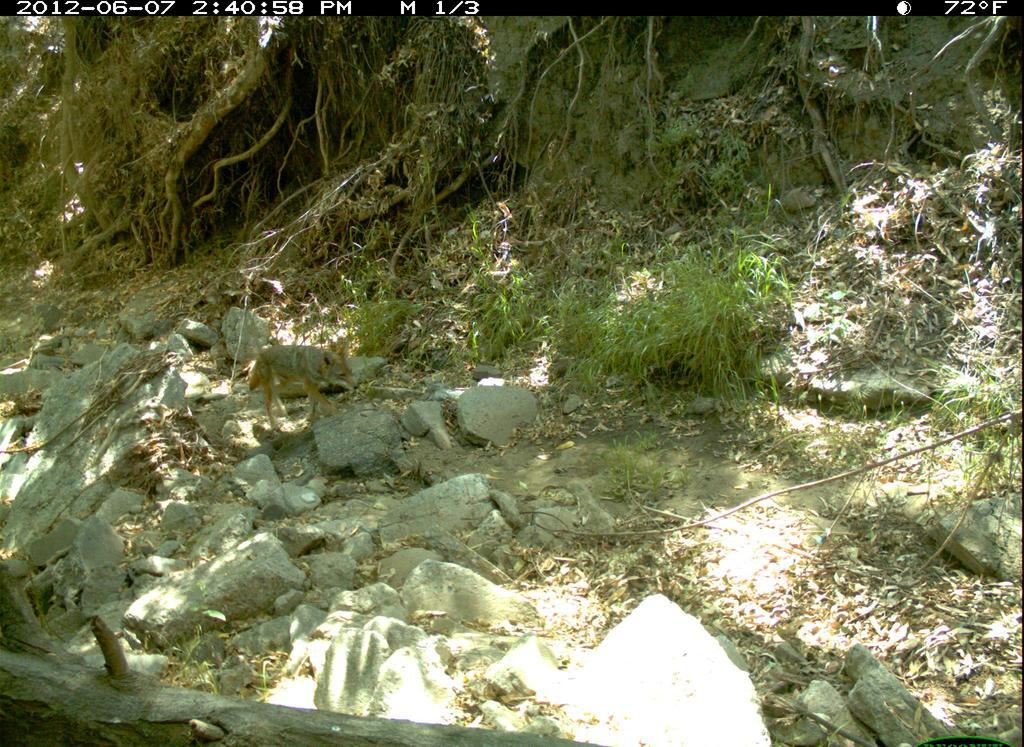coyote: (245, 337, 368, 433)
